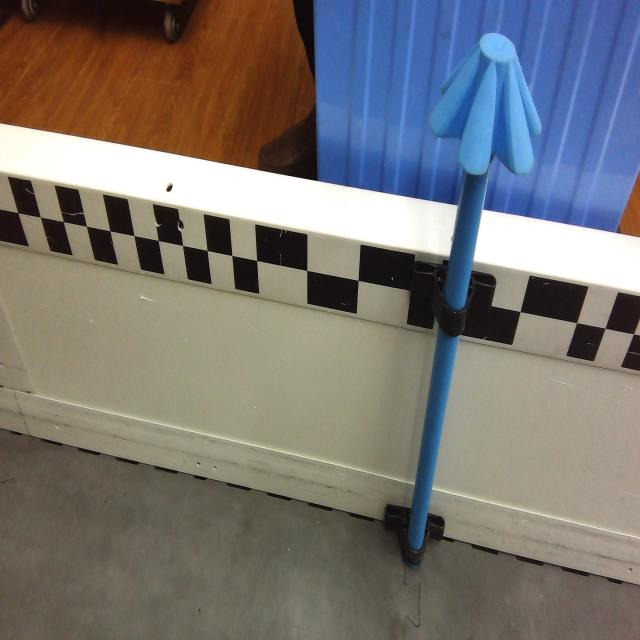zblue-Stake-Head: (428, 32, 542, 179)
